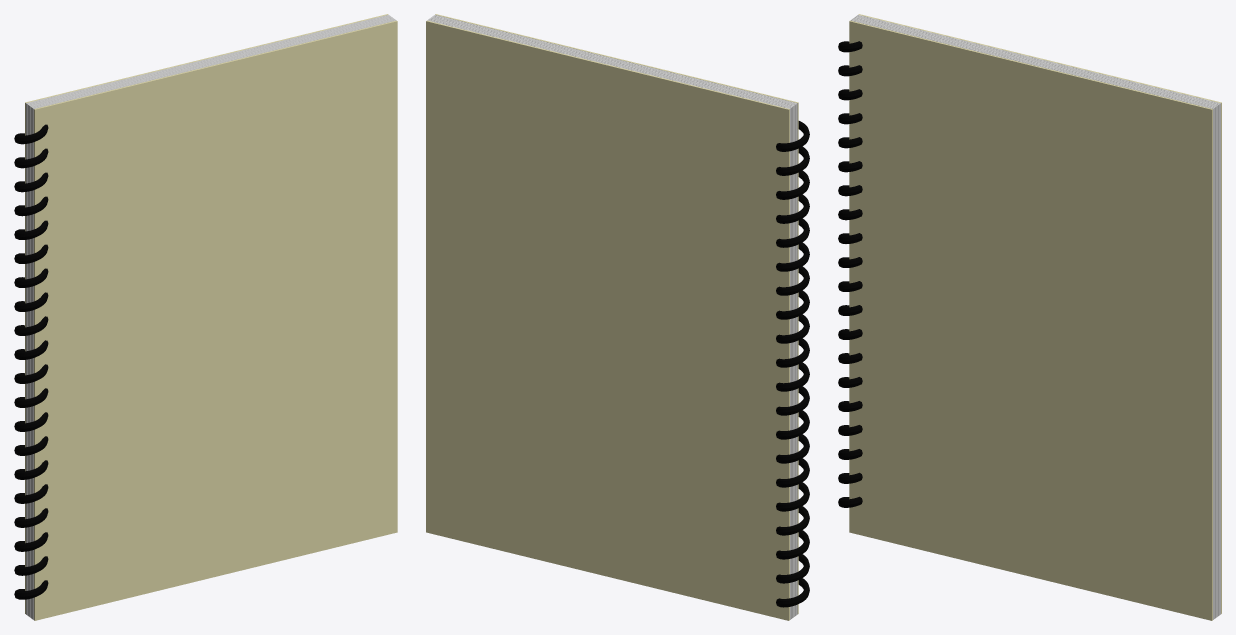
The model's file is Notebook.fbx.
3 views of the same model, side by side, from view 1: azimuth 30°, elevation 25°; view 2: azimuth 150°, elevation 25°; view 3: azimuth 330°, elevation 25° (orthographic).
Visible parts, largest first — view 1: npaper, pHelix1, npaper1, npaper17, npaper16, npaper20, npaper13, npaper21, npaper12, npaper18, npaper14, npaper27 (+15 smaller); view 2: npaper1, pHelix1, npaper, npaper16, npaper22, npaper24, npaper15, npaper14, npaper26, npaper13, npaper21, npaper23 (+14 smaller); view 3: npaper, pHelix1, npaper1, npaper17, npaper2, npaper29, npaper30, npaper4, npaper31, npaper28, npaper27, npaper25 (+15 smaller).
Boxes of the visible parts, x1=… form: npaper: x1=34, y1=20, x2=397, y2=620; pHelix1: x1=14, y1=124, x2=48, y2=599; npaper1: x1=25, y1=14, x2=388, y2=613; npaper17: x1=33, y1=20, x2=396, y2=619; npaper16: x1=29, y1=17, x2=392, y2=616; npaper20: x1=33, y1=20, x2=395, y2=619; npaper13: x1=29, y1=17, x2=391, y2=616; npaper21: x1=32, y1=19, x2=395, y2=619; npaper12: x1=28, y1=16, x2=391, y2=616; npaper18: x1=33, y1=20, x2=395, y2=619; npaper14: x1=29, y1=17, x2=391, y2=616; npaper27: x1=30, y1=17, x2=392, y2=617; npaper1: x1=426, y1=20, x2=789, y2=620; pHelix1: x1=776, y1=121, x2=809, y2=607; npaper: x1=435, y1=14, x2=798, y2=613; npaper16: x1=431, y1=18, x2=793, y2=617; npaper22: x1=434, y1=16, x2=796, y2=615; npaper24: x1=434, y1=15, x2=796, y2=614; npaper15: x1=430, y1=18, x2=793, y2=617; npaper14: x1=431, y1=17, x2=793, y2=616; npaper26: x1=433, y1=16, x2=795, y2=615; npaper13: x1=431, y1=18, x2=792, y2=617; npaper21: x1=434, y1=15, x2=796, y2=614; npaper23: x1=433, y1=16, x2=795, y2=615; npaper: x1=849, y1=20, x2=1212, y2=620; pHelix1: x1=838, y1=41, x2=862, y2=507; npaper1: x1=858, y1=14, x2=1221, y2=613; npaper17: x1=850, y1=20, x2=1213, y2=619; npaper2: x1=857, y1=15, x2=1219, y2=614; npaper29: x1=853, y1=18, x2=1215, y2=617; npaper30: x1=853, y1=18, x2=1216, y2=617; npaper4: x1=857, y1=15, x2=1220, y2=614; npaper31: x1=853, y1=18, x2=1215, y2=617; npaper28: x1=854, y1=18, x2=1216, y2=617; npaper27: x1=854, y1=17, x2=1216, y2=616; npaper25: x1=852, y1=19, x2=1215, y2=618.
Size of the model in its own units: 1.4 by 1.82 by 0.1102.
